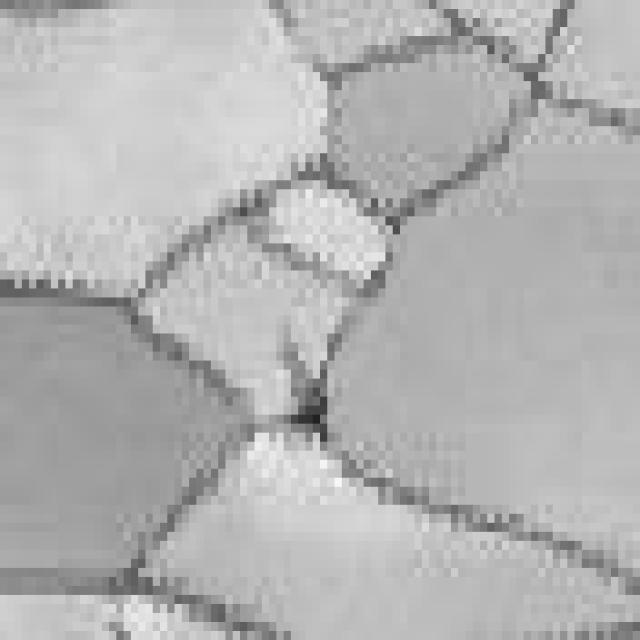good_void: (279, 333, 341, 452)
